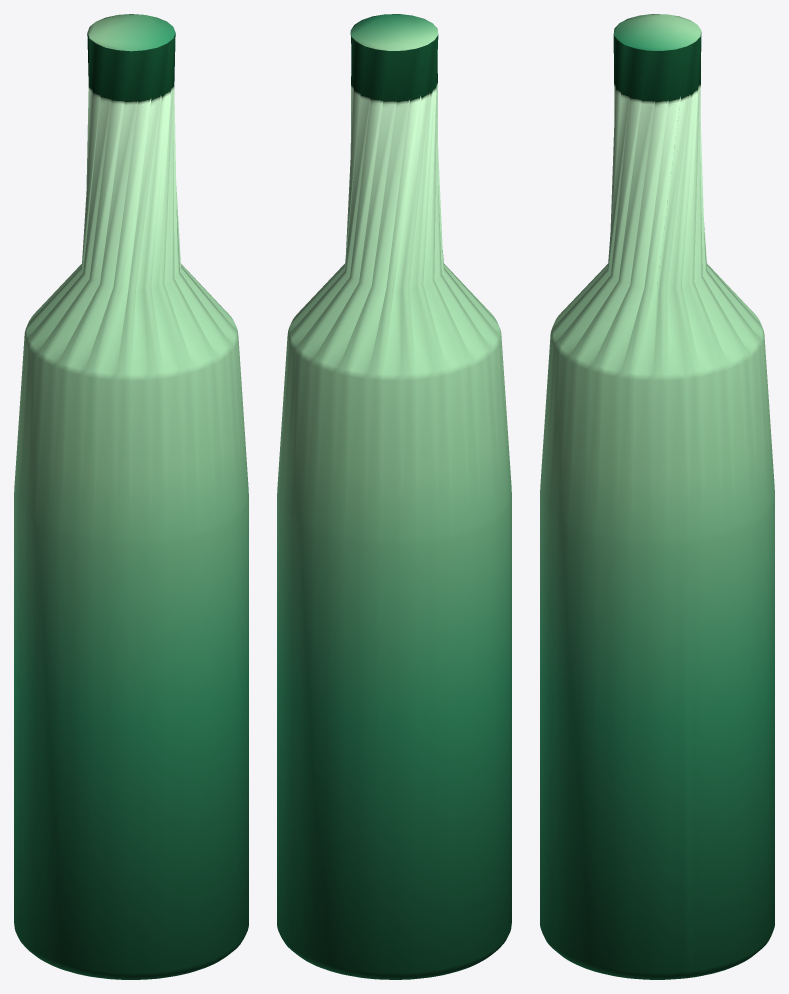
Rendered from Wine Bottle.fbx.
The picture shows the model from 3 angles, left to right: view 1: azimuth 30°, elevation 25°; view 2: azimuth 150°, elevation 25°; view 3: azimuth 270°, elevation 25°; orthographic projection.
Parts seen in each view (by area): view 1: Wine_Bottle; view 2: Wine_Bottle; view 3: Wine_Bottle.
Boxes of the visible parts, x1,y1,x2,y2 form: Wine_Bottle: [14, 14, 248, 979]; Wine_Bottle: [277, 14, 511, 979]; Wine_Bottle: [540, 14, 774, 979].
Size of the model in its own units: 0.9413 by 3.99 by 0.9413.
1 material, 1 textured.
